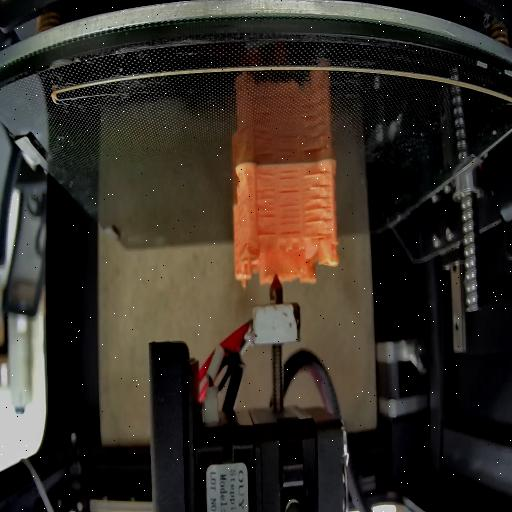cracks: (302, 170, 332, 226), (279, 166, 298, 236), (254, 173, 274, 221), (255, 230, 277, 240)
